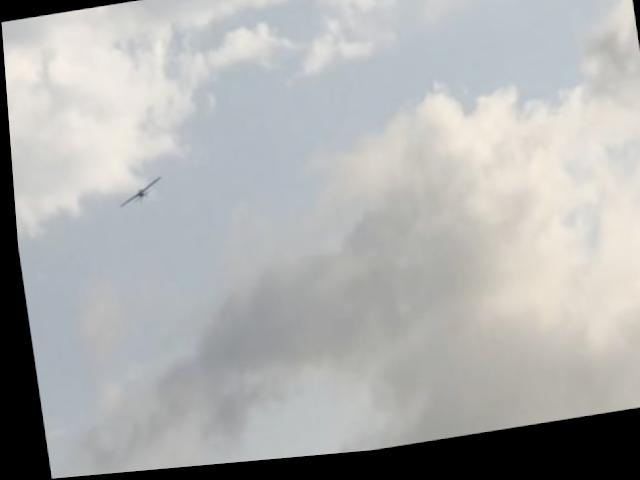uav: (103, 162, 172, 219)
